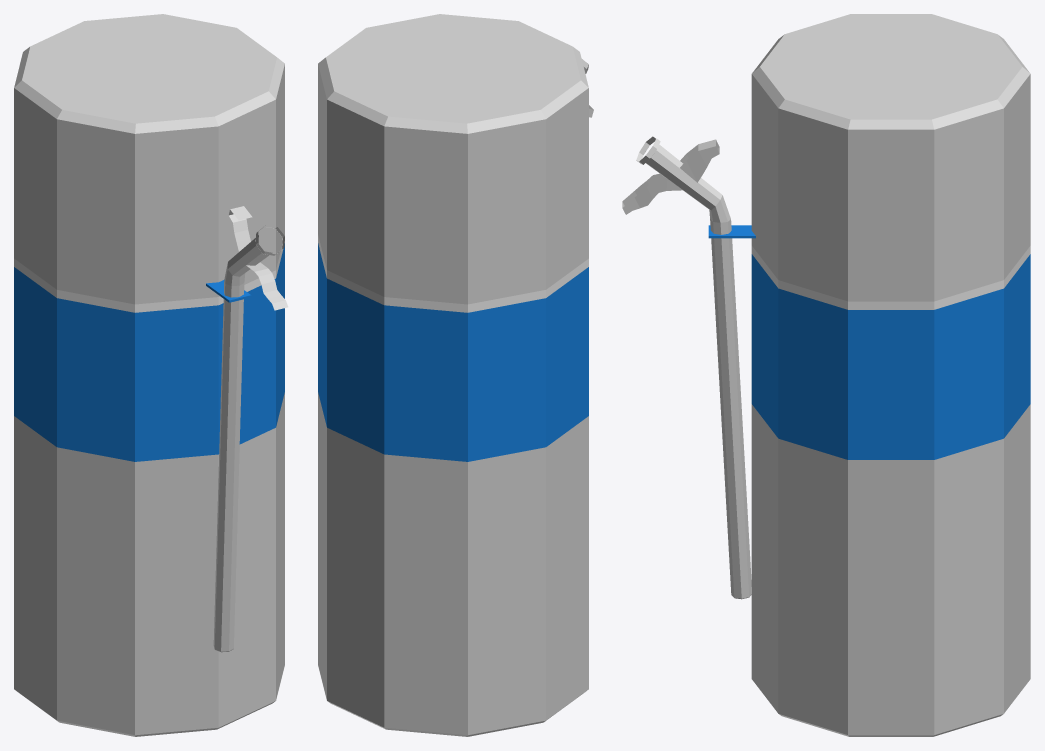
The picture shows the model from 3 angles, left to right: view 1: azimuth 30°, elevation 25°; view 2: azimuth 150°, elevation 25°; view 3: azimuth 270°, elevation 25°; orthographic projection.
Parts seen in each view (by area): view 1: main, spruehteil; view 2: main; view 3: main, spruehteil.
Boxes of the visible parts, x1,y1,x2,y2 form: main: (14,14,284,736); spruehteil: (206,206,288,652); main: (318,14,588,736); main: (751,14,1030,736); spruehteil: (622,136,755,599).
Bounding box in the file's own units: 1.01 × 2.58 × 1.55.
